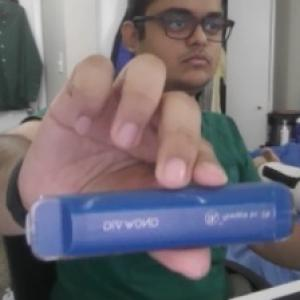Diamond-E-Ciggirate: (23, 180, 294, 264)
